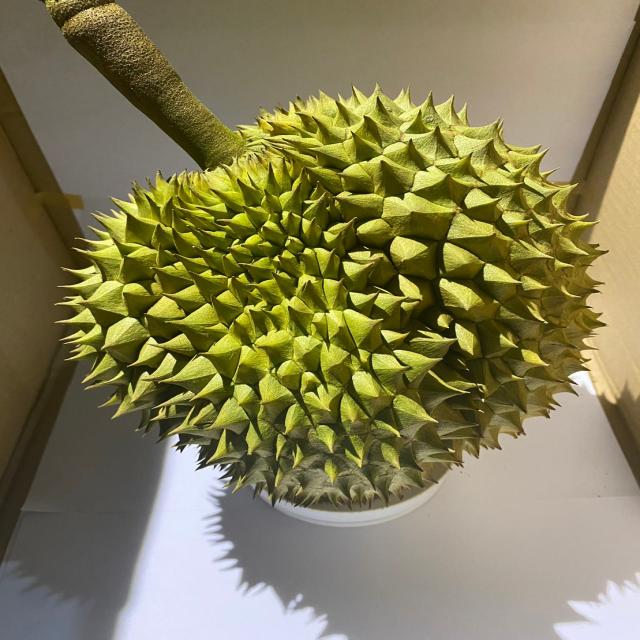immature: (56, 80, 609, 512)
